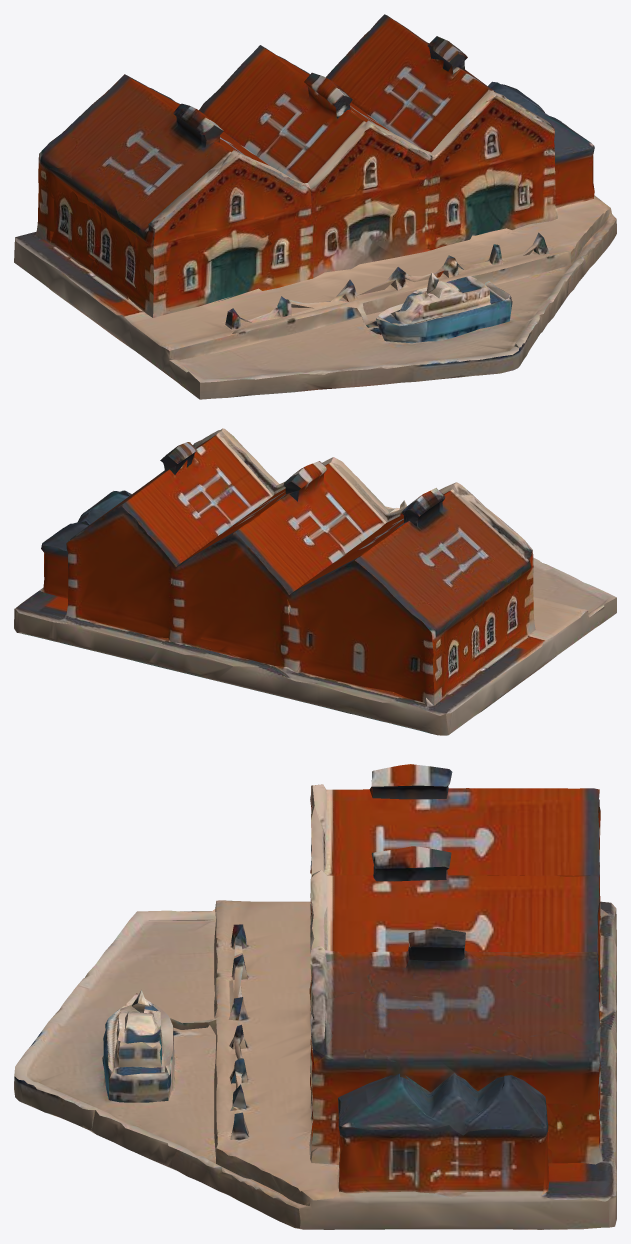
File: kanemori-warehouse.glb
The picture shows the model from 3 angles, top to bottom: view 1: azimuth 30°, elevation 25°; view 2: azimuth 150°, elevation 25°; view 3: azimuth 270°, elevation 25°; orthographic projection. The views are drawn at different scales.
Visible parts, largest first — view 1: logan-textured.obj; view 2: logan-textured.obj; view 3: logan-textured.obj.
Boxes of the visible parts, x1=… form: logan-textured.obj: x1=14, y1=14, x2=616, y2=399; logan-textured.obj: x1=14, y1=428, x2=616, y2=735; logan-textured.obj: x1=14, y1=764, x2=616, y2=1229.
Bounding box in the file's own units: 1 × 0.3681 × 0.8557.
1 material, 1 textured.
